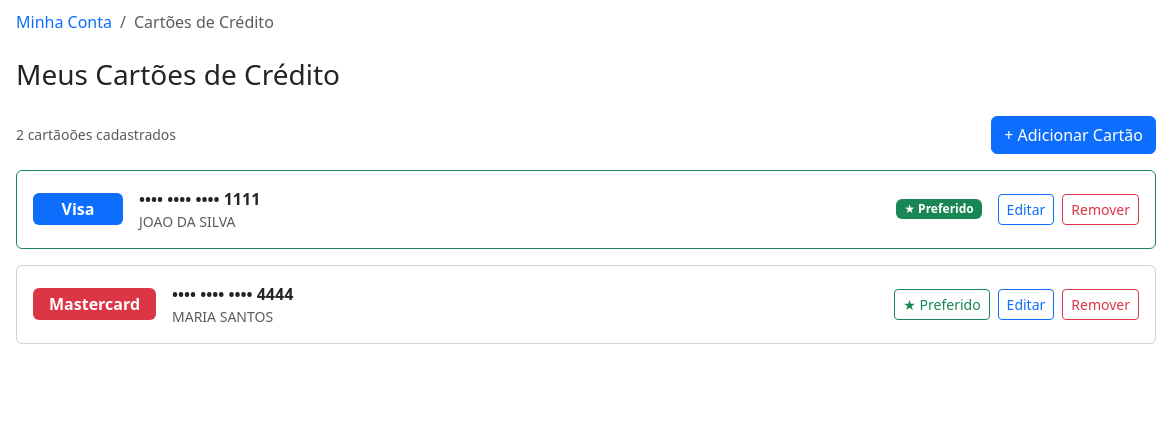
Test: CreditCardsPage - RF0027: Cadastro de cartões de crédito › should allow setting a different card as preferred
Click the button with test id "card-set-preferred-btn-2".
click(942, 304)  # box [894,289,990,320]
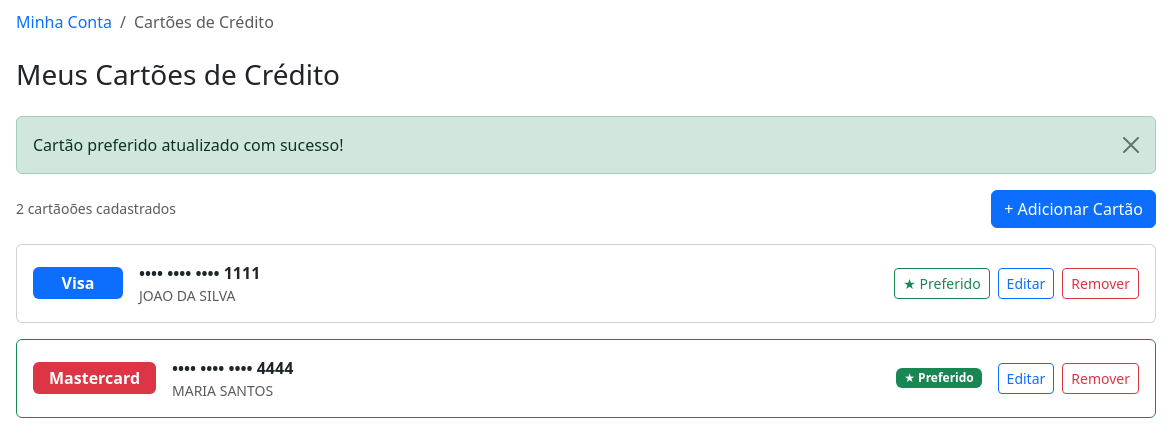
Expected: the text "Cartão preferido atualizado com sucesso!" is shown, [16,116,1156,174]
